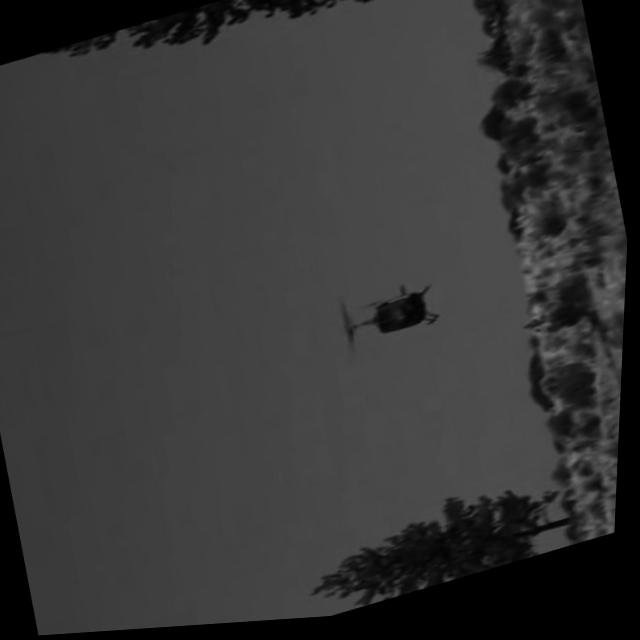helikopter: (290, 231, 497, 408)
